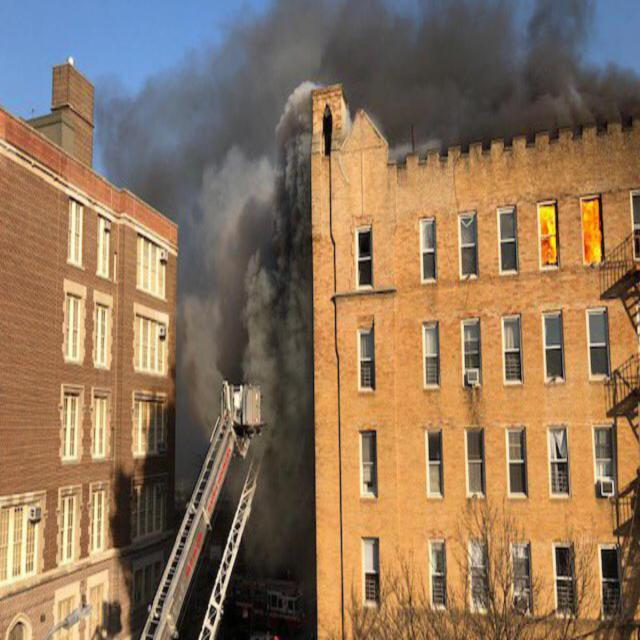Fire: (578, 188, 614, 282), (534, 194, 568, 282)
